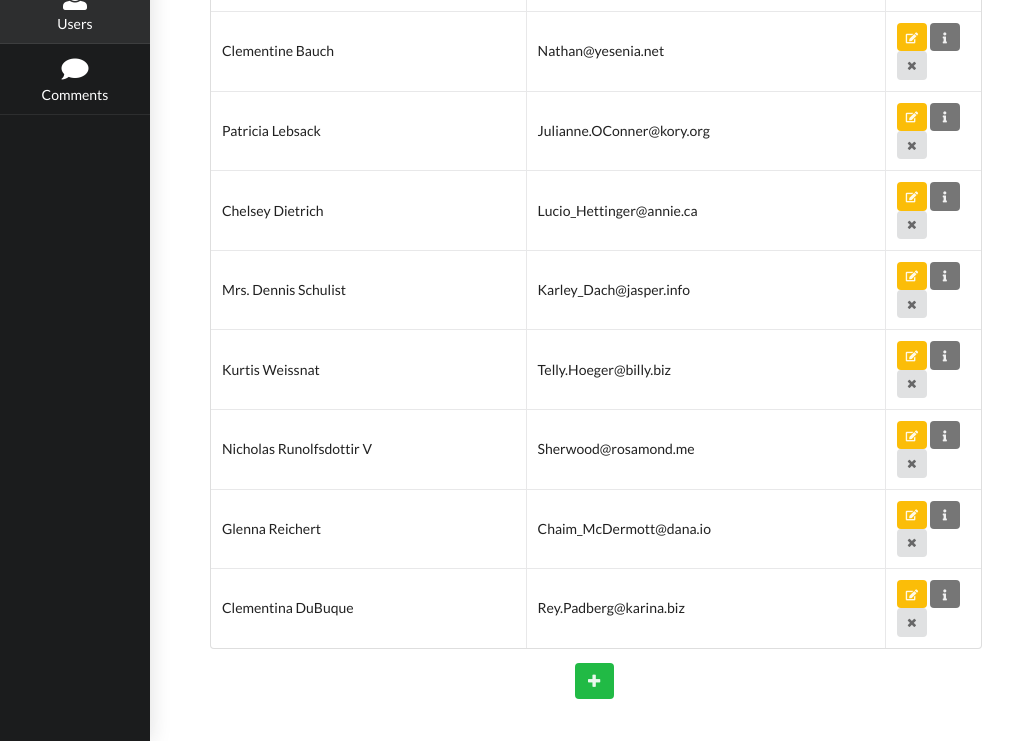
Testing User Actions Page › should open add user on UserActions page
(page scrolled)
Click the button with test id "addbutton": [594, 681] box [575,663,614,699]
(page scrolled)
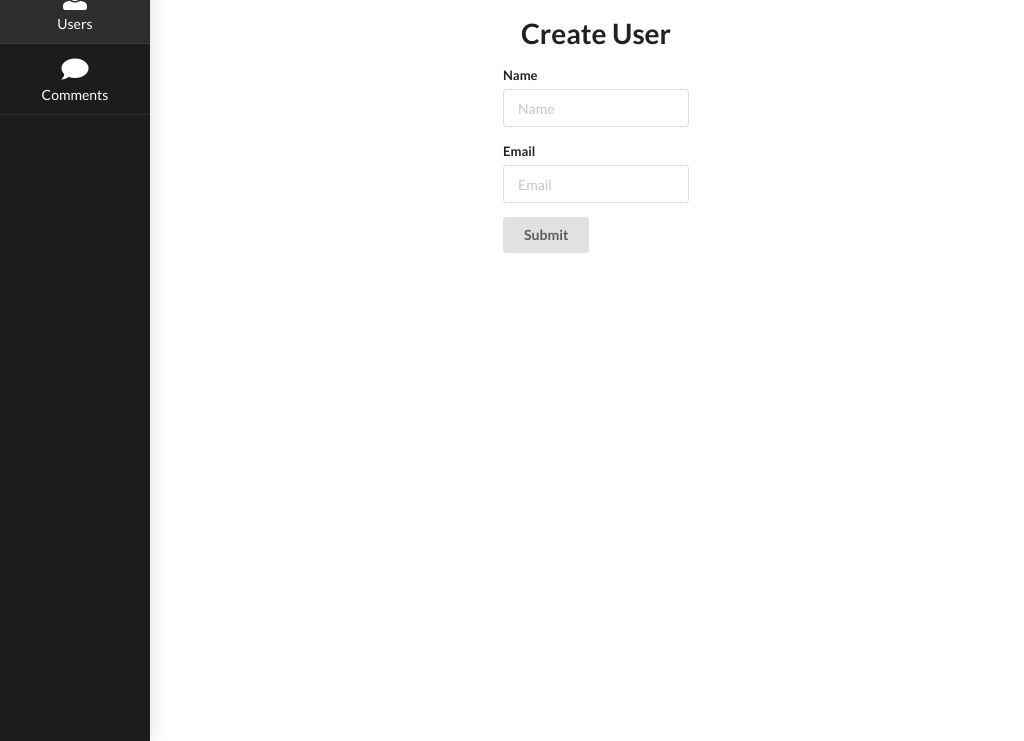
Result: the button "Submit" is shown at [503,217,590,253]
